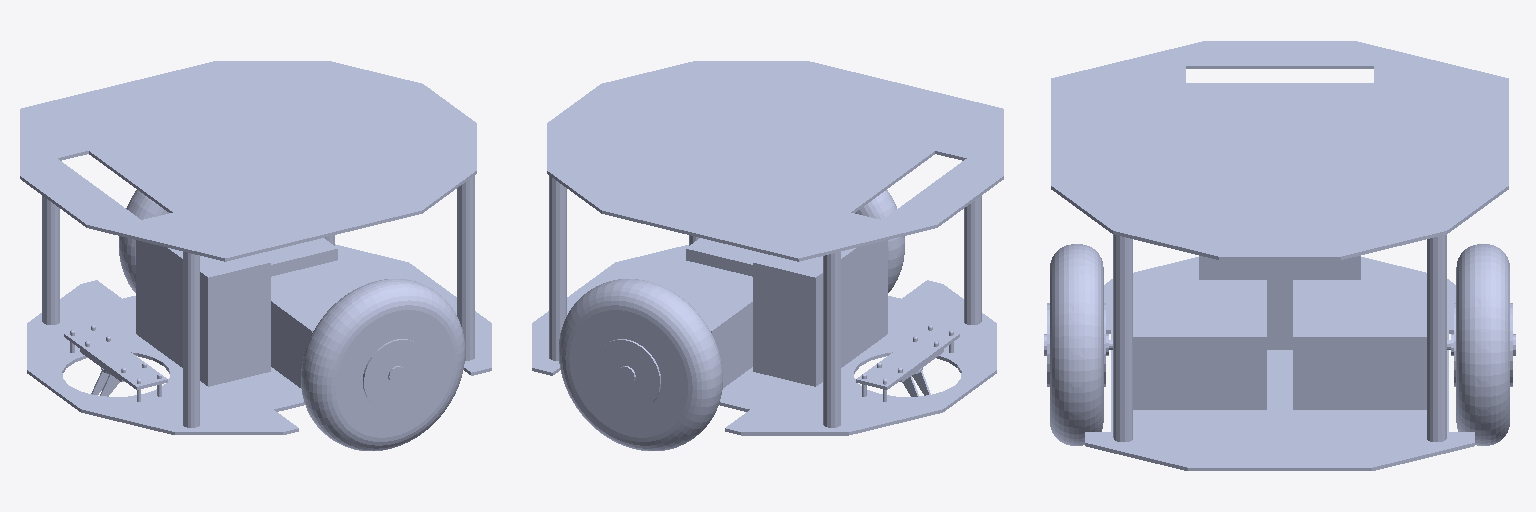
The robot description file, URDF, robot "mobilerobot_test":
<?xml version="1.0" encoding="utf-8"?>
<!-- This URDF was automatically created by SolidWorks to URDF Exporter! Originally created by [author] ([email redacted]) 
     Commit Version: 1.6.0-1-g15f4949  Build Version: 1.6.7594.29634
     For more information, please see http://wiki.ros.org/sw_urdf_exporter -->
<robot
  name="mobilerobot_test">
  <link
    name="base_footprint_link">
    <inertial>
      <origin
        xyz="-0.00342138200196307 1.18433650386773E-07 0.0962459810585744"
        rpy="0 0 0" />
      <mass
        value="2.76738314776389" />
      <inertia
        ixx="0.00779782419868002"
        ixy="-4.63077941010442E-10"
        ixz="-2.98575725775352E-16"
        iyy="0.00827012191949827"
        iyz="-1.98598732945032E-16"
        izz="0.0134961317704578" />
    </inertial>
    <visual>
      <origin
        xyz="0 0 0"
        rpy="0 0 0" />
      <geometry>
        <mesh
          filename="package://mobilerobot_test/meshes/base_footprint_link.STL" />
      </geometry>
      <material
        name="">
        <color
          rgba="0.792156862745098 0.819607843137255 0.933333333333333 1" />
      </material>
    </visual>
    <collision>
      <origin
        xyz="0 0 0"
        rpy="0 0 0" />
      <geometry>
        <mesh
          filename="package://mobilerobot_test/meshes/base_footprint_link.STL" />
      </geometry>
    </collision>
  </link>
  <link
    name="base_link">
    <inertial>
      <origin
        xyz="-0.00342138200196324 1.18433650553307E-07 0.0536996228356946"
        rpy="0 0 0" />
      <mass
        value="2.76738314776389" />
      <inertia
        ixx="0.00779782419868001"
        ixy="-4.63077940576762E-10"
        ixz="-2.98623159620398E-16"
        iyy="0.00827012191949826"
        iyz="-1.9860550920861E-16"
        izz="0.0134961317704578" />
    </inertial>
    <visual>
      <origin
        xyz="0 0 0"
        rpy="0 0 0" />
      <geometry>
        <mesh
          filename="package://mobilerobot_test/meshes/base_link.STL" />
      </geometry>
      <material
        name="">
        <color
          rgba="0.792156862745098 0.819607843137255 0.933333333333333 1" />
      </material>
    </visual>
    <collision>
      <origin
        xyz="0 0 0"
        rpy="0 0 0" />
      <geometry>
        <mesh
          filename="package://mobilerobot_test/meshes/base_link.STL" />
      </geometry>
    </collision>
  </link>
  <joint
    name="base_link_joint"
    type="fixed">
    <origin
      xyz="0 0 0.042546"
      rpy="0 0 0" />
    <parent
      link="base_footprint_link" />
    <child
      link="base_link" />
    <axis
      xyz="0 0 0" />
  </joint>
  <link
    name="lw_link">
    <inertial>
      <origin
        xyz="-3.88578058618805E-16 0.0240000000000312 -2.17881268582687E-15"
        rpy="0 0 0" />
      <mass
        value="0.655503307258326" />
      <inertia
        ixx="0.000923008630552075"
        ixy="-7.15573433840433E-18"
        ixz="-7.28448334638698E-20"
        iyy="0.00167949926758436"
        iyz="4.46386363203016E-19"
        izz="0.000923008630552075" />
    </inertial>
    <visual>
      <origin
        xyz="0 0 0"
        rpy="0 0 0" />
      <geometry>
        <mesh
          filename="package://mobilerobot_test/meshes/lw_link.STL" />
      </geometry>
      <material
        name="">
        <color
          rgba="0.792156862745098 0.819607843137255 0.933333333333333 1" />
      </material>
    </visual>
    <collision>
      <origin
        xyz="0 0 0"
        rpy="0 0 0" />
      <geometry>
        <mesh
          filename="package://mobilerobot_test/meshes/lw_link.STL" />
      </geometry>
    </collision>
  </link>
  <joint
    name="lw_joint"
    type="continuous">
    <origin
      xyz="0.028202 -0.175 0.033"
      rpy="0 0 0" />
    <parent
      link="base_link" />
    <child
      link="lw_link" />
    <axis
      xyz="0 1 0" />
  </joint>
  <link
    name="rw_link">
    <inertial>
      <origin
        xyz="-5.29021271233887E-14 -0.0240000000000039 3.87884169228414E-15"
        rpy="0 0 0" />
      <mass
        value="0.655503307258327" />
      <inertia
        ixx="0.000923008630552077"
        ixy="-6.93889390390723E-18"
        ixz="-6.69156028330897E-20"
        iyy="0.00167949926758436"
        iyz="5.17537130772378E-19"
        izz="0.000923008630552076" />
    </inertial>
    <visual>
      <origin
        xyz="0 0 0"
        rpy="0 0 0" />
      <geometry>
        <mesh
          filename="package://mobilerobot_test/meshes/rw_link.STL" />
      </geometry>
      <material
        name="">
        <color
          rgba="0.792156862745098 0.819607843137255 0.933333333333333 1" />
      </material>
    </visual>
    <collision>
      <origin
        xyz="0 0 0"
        rpy="0 0 0" />
      <geometry>
        <mesh
          filename="package://mobilerobot_test/meshes/rw_link.STL" />
      </geometry>
    </collision>
  </link>
  <joint
    name="rw_joint"
    type="continuous">
    <origin
      xyz="0.028202 0.175 0.033"
      rpy="0 0 0" />
    <parent
      link="base_link" />
    <child
      link="rw_link" />
    <axis
      xyz="0 1 0" />
  </joint>
  <link
    name="caster_top_link">
    <inertial>
      <origin
        xyz="-0.00232207504166007 0.000325935672784605 -0.00822831347859176"
        rpy="0 0 0" />
      <mass
        value="0.00368528325250998" />
      <inertia
        ixx="3.66795122786808E-07"
        ixy="4.43309581598519E-09"
        ixz="-1.26581058615969E-07"
        iyy="3.97755737172492E-07"
        iyz="1.77674199849672E-08"
        izz="2.9920756716578E-07" />
    </inertial>
    <visual>
      <origin
        xyz="0 0 0"
        rpy="0 0 0" />
      <geometry>
        <mesh
          filename="package://mobilerobot_test/meshes/caster_top_link.STL" />
      </geometry>
      <material
        name="">
        <color
          rgba="0.792156862745098 0.819607843137255 0.933333333333333 1" />
      </material>
    </visual>
    <collision>
      <origin
        xyz="0 0 0"
        rpy="0 0 0" />
      <geometry>
        <mesh
          filename="package://mobilerobot_test/meshes/caster_top_link.STL" />
      </geometry>
    </collision>
  </link>
  <joint
    name="caster_top_joint"
    type="continuous">
    <origin
      xyz="-0.14035 0 0.015"
      rpy="0 0 0" />
    <parent
      link="base_link" />
    <child
      link="caster_top_link" />
    <axis
      xyz="0 0 1" />
  </joint>
  <link
    name="caster_bottom_link">
    <inertial>
      <origin
        xyz="0.00125101209725378 0.00891262973159579 -6.93889390390723E-18"
        rpy="0 0 0" />
      <mass
        value="0.0181447860110378" />
      <inertia
        ixx="2.78326117490192E-06"
        ixy="3.34111375601163E-07"
        ixz="-2.38228016415272E-22"
        iyy="5.1166854660164E-06"
        iyz="-2.67344773977139E-21"
        izz="2.73636397561343E-06" />
    </inertial>
    <visual>
      <origin
        xyz="0 0 0"
        rpy="0 0 0" />
      <geometry>
        <mesh
          filename="package://mobilerobot_test/meshes/caster_bottom_link.STL" />
      </geometry>
      <material
        name="">
        <color
          rgba="0.792156862745098 0.819607843137255 0.933333333333333 1" />
      </material>
    </visual>
    <collision>
      <origin
        xyz="0 0 0"
        rpy="0 0 0" />
      <geometry>
        <mesh
          filename="package://mobilerobot_test/meshes/caster_bottom_link.STL" />
      </geometry>
    </collision>
  </link>
  <joint
    name="caster_bottom_joint"
    type="continuous">
    <origin
      xyz="-0.15995 -0.0063367 -0.018546"
      rpy="0 0 0" />
    <parent
      link="base_link" />
    <child
      link="caster_bottom_link" />
    <axis
      xyz="-0.139 -0.99029 0" />
  </joint>
</robot>

--- What the picture shows (computed from the rendered views, not written in the file) ---
3 views of the same robot in one strip: view 1: azimuth 30°, elevation 25°; view 2: azimuth 150°, elevation 25°; view 3: azimuth 270°, elevation 25° (orthographic).
Model mobilerobot_test with 6 links and 5 joints (4 continuous, 1 fixed), rooted at base_footprint_link, posed all joints at 0.
Links seen in each view (by area): view 1: base_footprint_link, lw_link, base_link, rw_link; view 2: base_footprint_link, rw_link, base_link, lw_link; view 3: base_footprint_link, rw_link, lw_link, base_link.
Boxes of the visible links, x1=… form: base_footprint_link: x1=20, y1=61, x2=491, y2=434; lw_link: x1=301, y1=279, x2=464, y2=450; base_link: x1=20, y1=153, x2=491, y2=434; rw_link: x1=119, y1=190, x2=168, y2=292; base_footprint_link: x1=532, y1=61, x2=1003, y2=435; rw_link: x1=559, y1=279, x2=722, y2=450; base_link: x1=532, y1=154, x2=1003, y2=435; lw_link: x1=855, y1=190, x2=904, y2=292; base_footprint_link: x1=1051, y1=41, x2=1508, y2=470; rw_link: x1=1451, y1=244, x2=1515, y2=445; lw_link: x1=1044, y1=244, x2=1108, y2=445; base_link: x1=1058, y1=67, x2=1499, y2=464.
Bounding box of the posed robot: 0.38 × 0.35 × 0.218 m (x, y, z).
Meshes: 6 distinct files referenced, 5 mesh visuals loaded (5 binary STL); not drawn: 1 (reference not matched to a file when rendering).